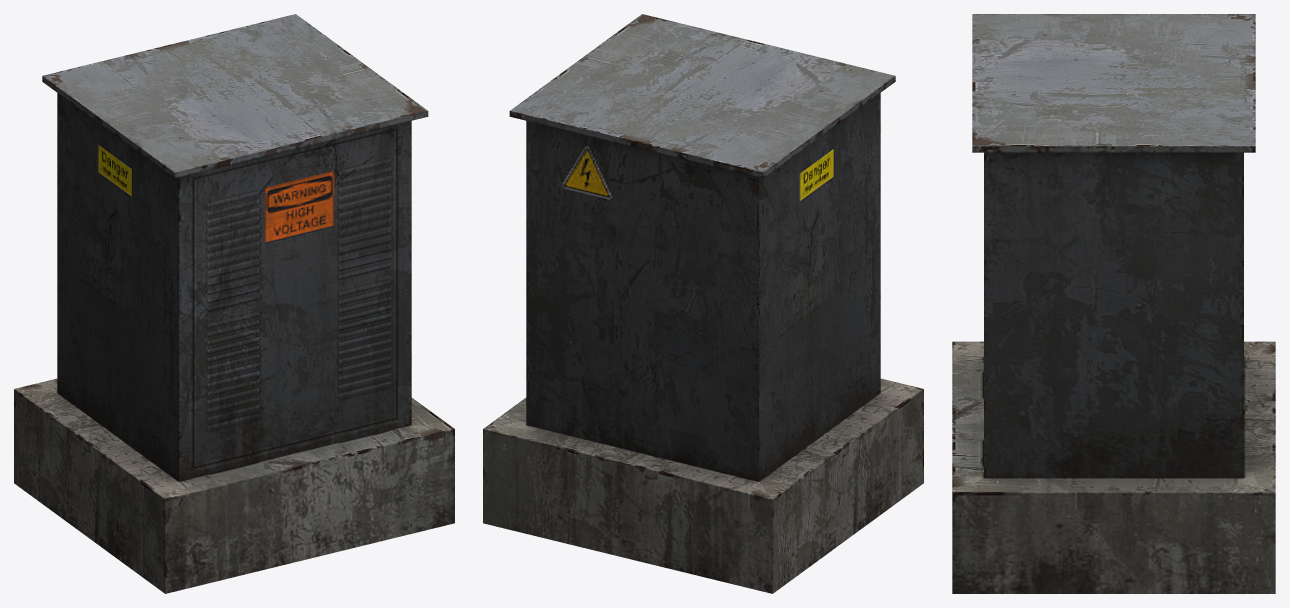
The model's file is powerbox3.fbx.
3 renders of one model, left to right at view 1: azimuth 30°, elevation 25°; view 2: azimuth 150°, elevation 25°; view 3: azimuth 270°, elevation 25°, orthographic. The views are drawn at different scales.
Parts seen in each view (by area): view 1: powerboxes_LP_polySurface78; view 2: powerboxes_LP_polySurface78; view 3: powerboxes_LP_polySurface78.
Boxes of the visible parts, left/top/right/bottom form: powerboxes_LP_polySurface78: left=14, top=14, right=454, bottom=593; powerboxes_LP_polySurface78: left=483, top=14, right=923, bottom=593; powerboxes_LP_polySurface78: left=952, top=14, right=1275, bottom=593.
Size of the model in its own units: 1.1 by 1.49 by 0.9932.
